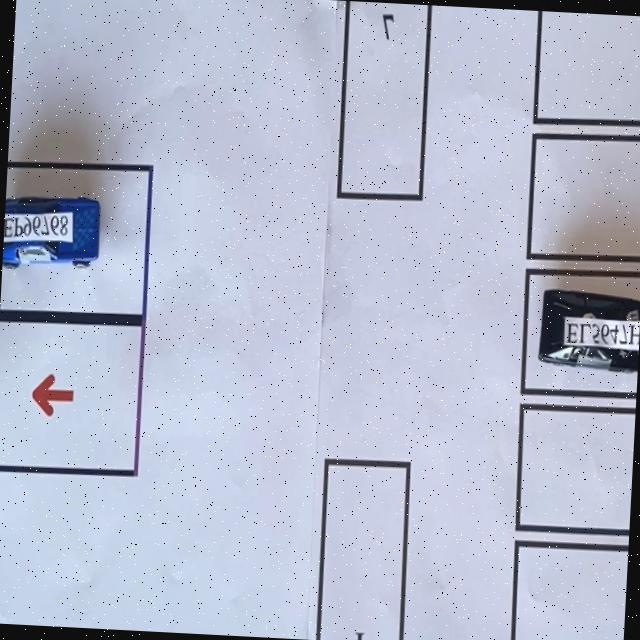car: (535, 283, 640, 378), (2, 186, 102, 280)
